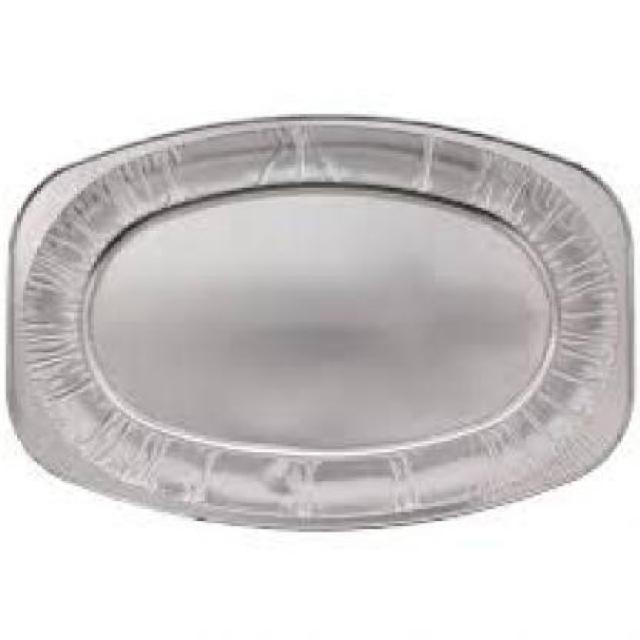metal: (7, 118, 638, 540)
